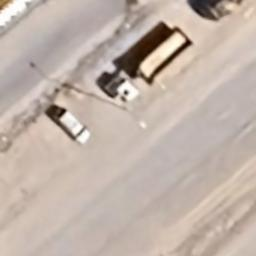van: (52, 106, 94, 144)
